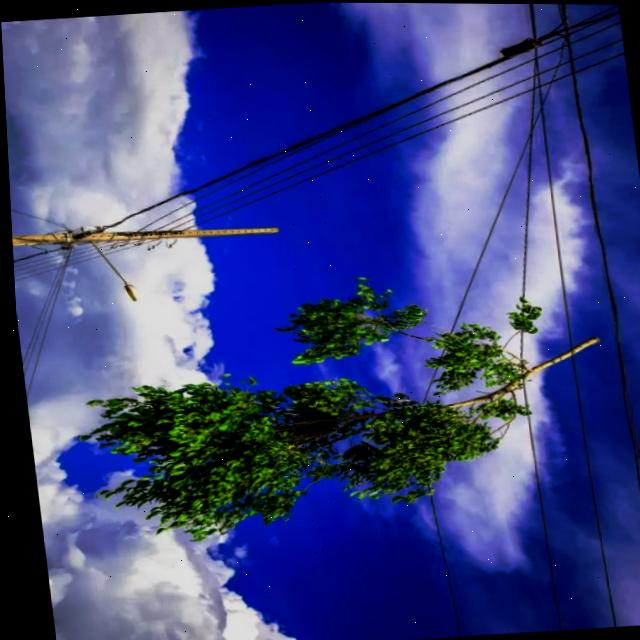obstruction: (82, 325, 550, 541), (270, 280, 418, 362)
poles: (10, 222, 273, 245)
wires: (175, 4, 624, 219), (580, 122, 640, 545), (430, 508, 577, 636)
